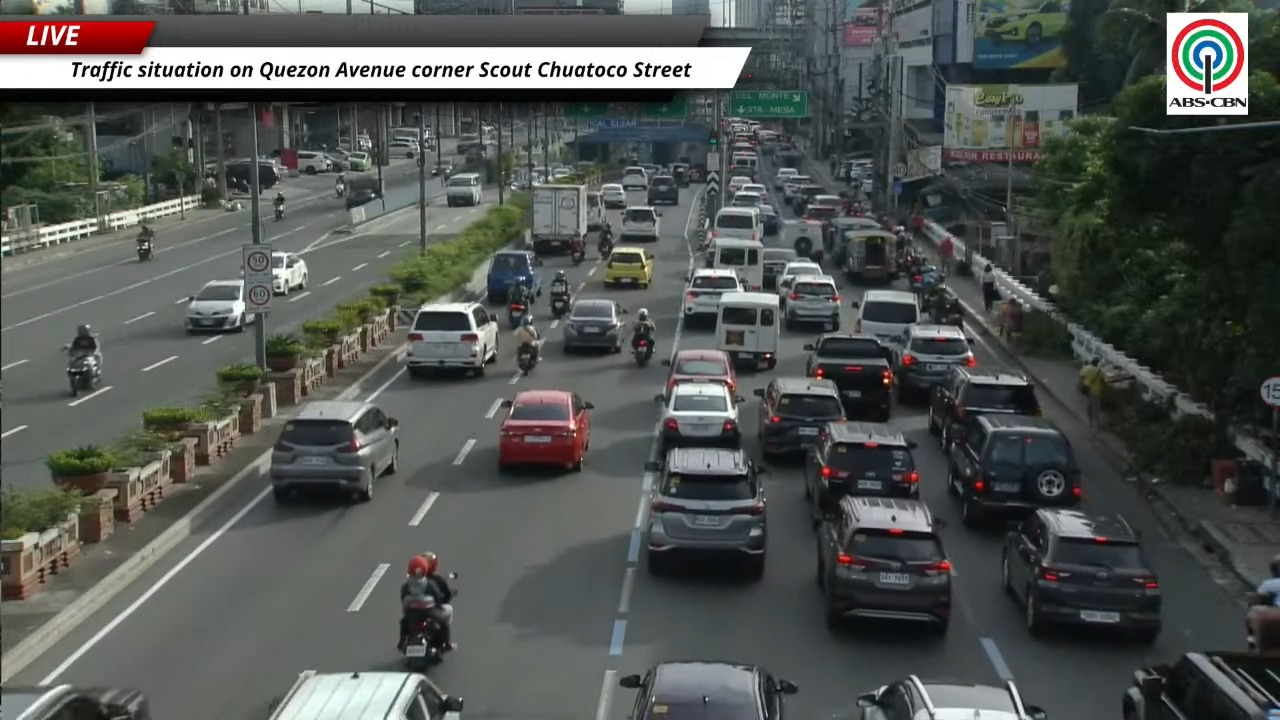car: (1001, 508, 1161, 643), (817, 497, 951, 633), (645, 447, 766, 578), (947, 414, 1082, 525), (268, 401, 398, 501), (805, 422, 919, 516), (619, 662, 797, 719), (268, 670, 463, 719), (928, 367, 1041, 450), (857, 676, 1047, 719), (498, 390, 593, 471), (754, 378, 844, 459), (405, 302, 500, 377), (894, 323, 976, 401), (655, 381, 742, 447), (0, 684, 151, 719), (981, 0, 1069, 47), (853, 290, 920, 344), (185, 279, 253, 332), (562, 298, 626, 352), (682, 268, 744, 322), (783, 275, 840, 331), (662, 349, 735, 392), (775, 258, 823, 307), (602, 246, 653, 288), (271, 252, 308, 294), (762, 248, 797, 290), (618, 207, 660, 241), (790, 181, 827, 218), (802, 196, 841, 221), (647, 175, 678, 205), (783, 174, 812, 205), (297, 151, 333, 174), (757, 204, 781, 235), (600, 183, 627, 209), (621, 166, 648, 189), (387, 140, 420, 158), (774, 167, 799, 190), (731, 190, 763, 207), (726, 176, 751, 197), (326, 149, 349, 171), (740, 183, 768, 201), (670, 163, 691, 187), (347, 151, 372, 171), (641, 163, 662, 178), (552, 167, 573, 181)
motorcycle: (403, 602, 444, 671), (1244, 592, 1279, 651), (66, 354, 99, 397), (517, 343, 536, 375), (633, 337, 652, 366), (508, 303, 527, 329), (550, 295, 570, 318), (570, 242, 586, 266), (597, 233, 612, 257), (137, 240, 152, 261), (274, 204, 284, 220), (335, 185, 345, 198)
truck: (1122, 651, 1279, 719), (804, 333, 893, 421), (531, 184, 587, 254)
